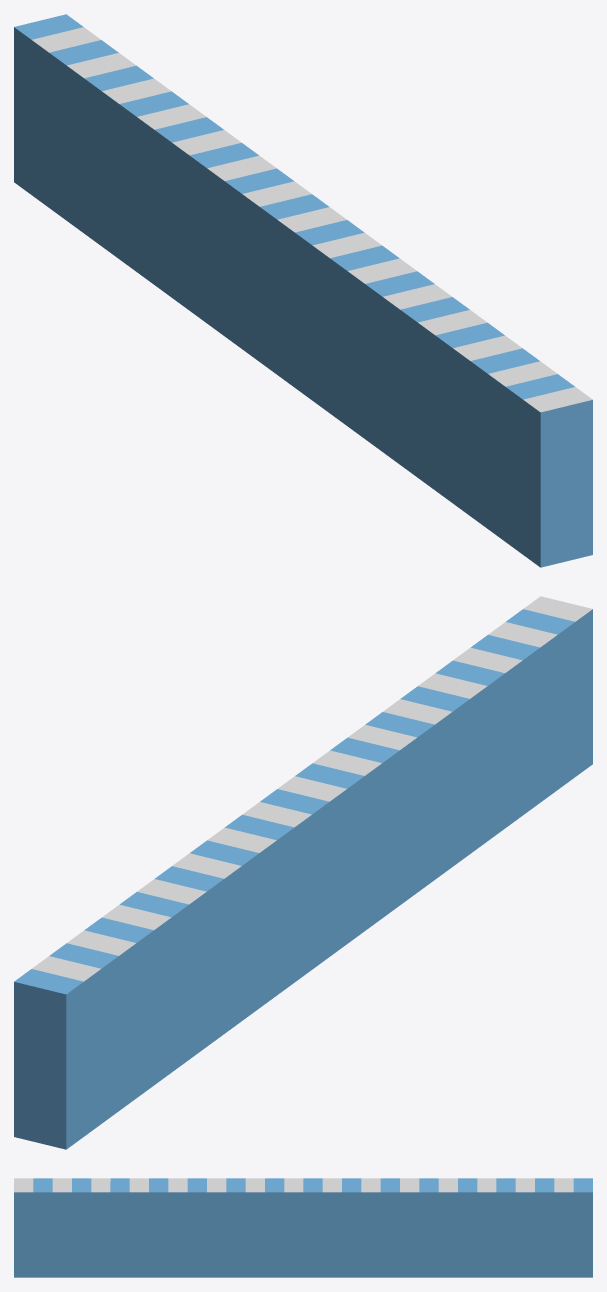
Rendered from platform.fbx.
3 renders of one model, top to bottom at view 1: azimuth 30°, elevation 25°; view 2: azimuth 150°, elevation 25°; view 3: azimuth 270°, elevation 25°, orthographic. The views are drawn at different scales.
Visible parts, largest first — view 1: Cube; view 2: Cube; view 3: Cube.
Boxes of the visible parts, x1=… form: Cube: x1=14, y1=14, x2=592, y2=567; Cube: x1=14, y1=596, x2=592, y2=1149; Cube: x1=14, y1=1178, x2=592, y2=1277.
Size of the model in its own units: 200 by 567 by 3485.
